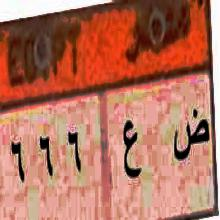6: (62, 117, 85, 185), (6, 126, 32, 186), (34, 125, 57, 188)
ain: (117, 108, 146, 190)
daad: (171, 102, 211, 179)
